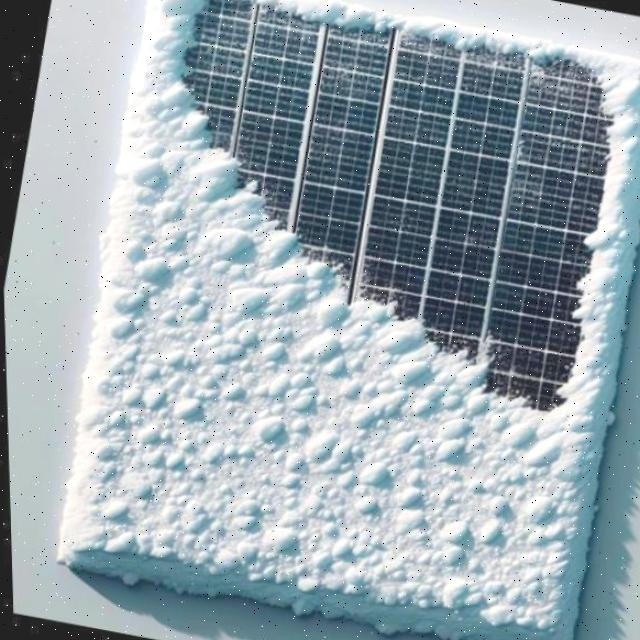Anomaly Solar Panel: (54, 0, 640, 640)
Snow: (54, 0, 640, 640)
